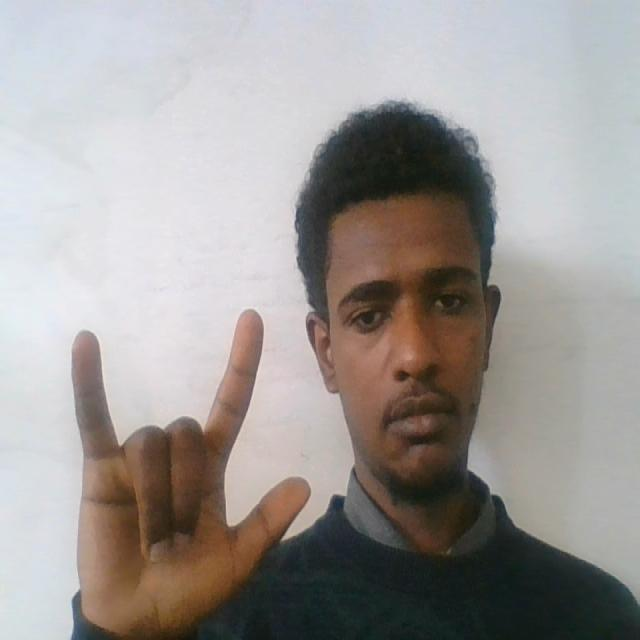iloveyou: (62, 298, 325, 640)
